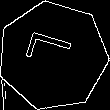L_E: (24, 34, 82, 78)
